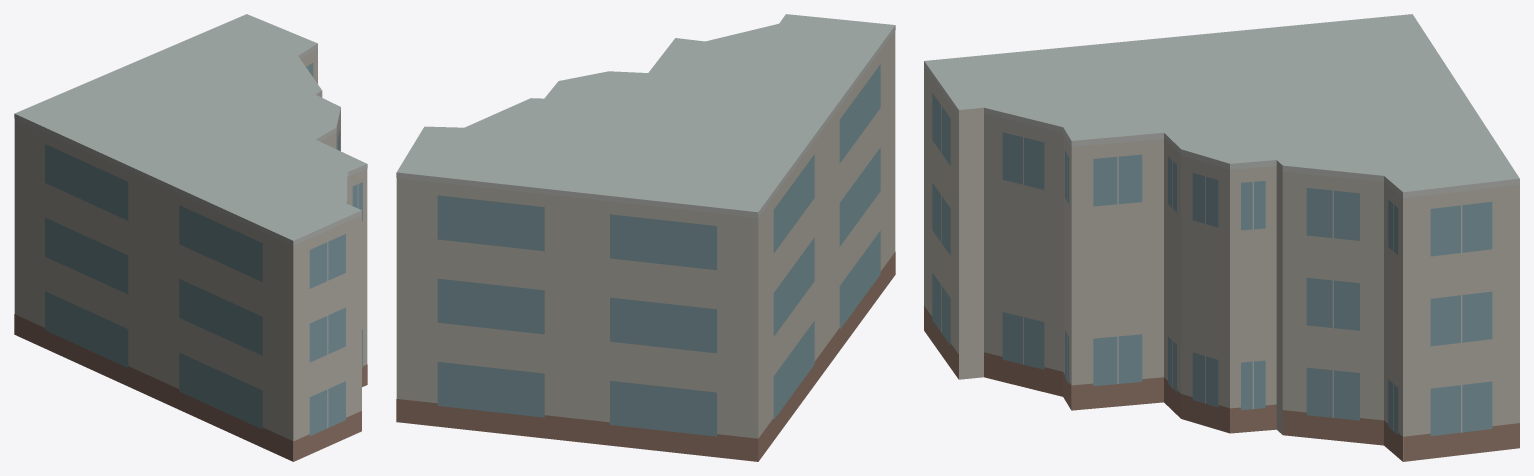
File: survey-upis-32534866.glb
The picture shows the model from 3 angles, left to right: view 1: azimuth 30°, elevation 25°; view 2: azimuth 150°, elevation 25°; view 3: azimuth 270°, elevation 25°; orthographic projection. The views are drawn at different scales.
Visible parts, largest first — view 1: survey-upis-32534866.tmp; view 2: survey-upis-32534866.tmp; view 3: survey-upis-32534866.tmp.
Boxes of the visible parts, x1=… form: survey-upis-32534866.tmp: x1=14, y1=14, x2=367, y2=461; survey-upis-32534866.tmp: x1=396, y1=14, x2=895, y2=461; survey-upis-32534866.tmp: x1=924, y1=14, x2=1519, y2=461.
Bounding box in the file's own units: 15.75 × 11.1 × 22.24.
